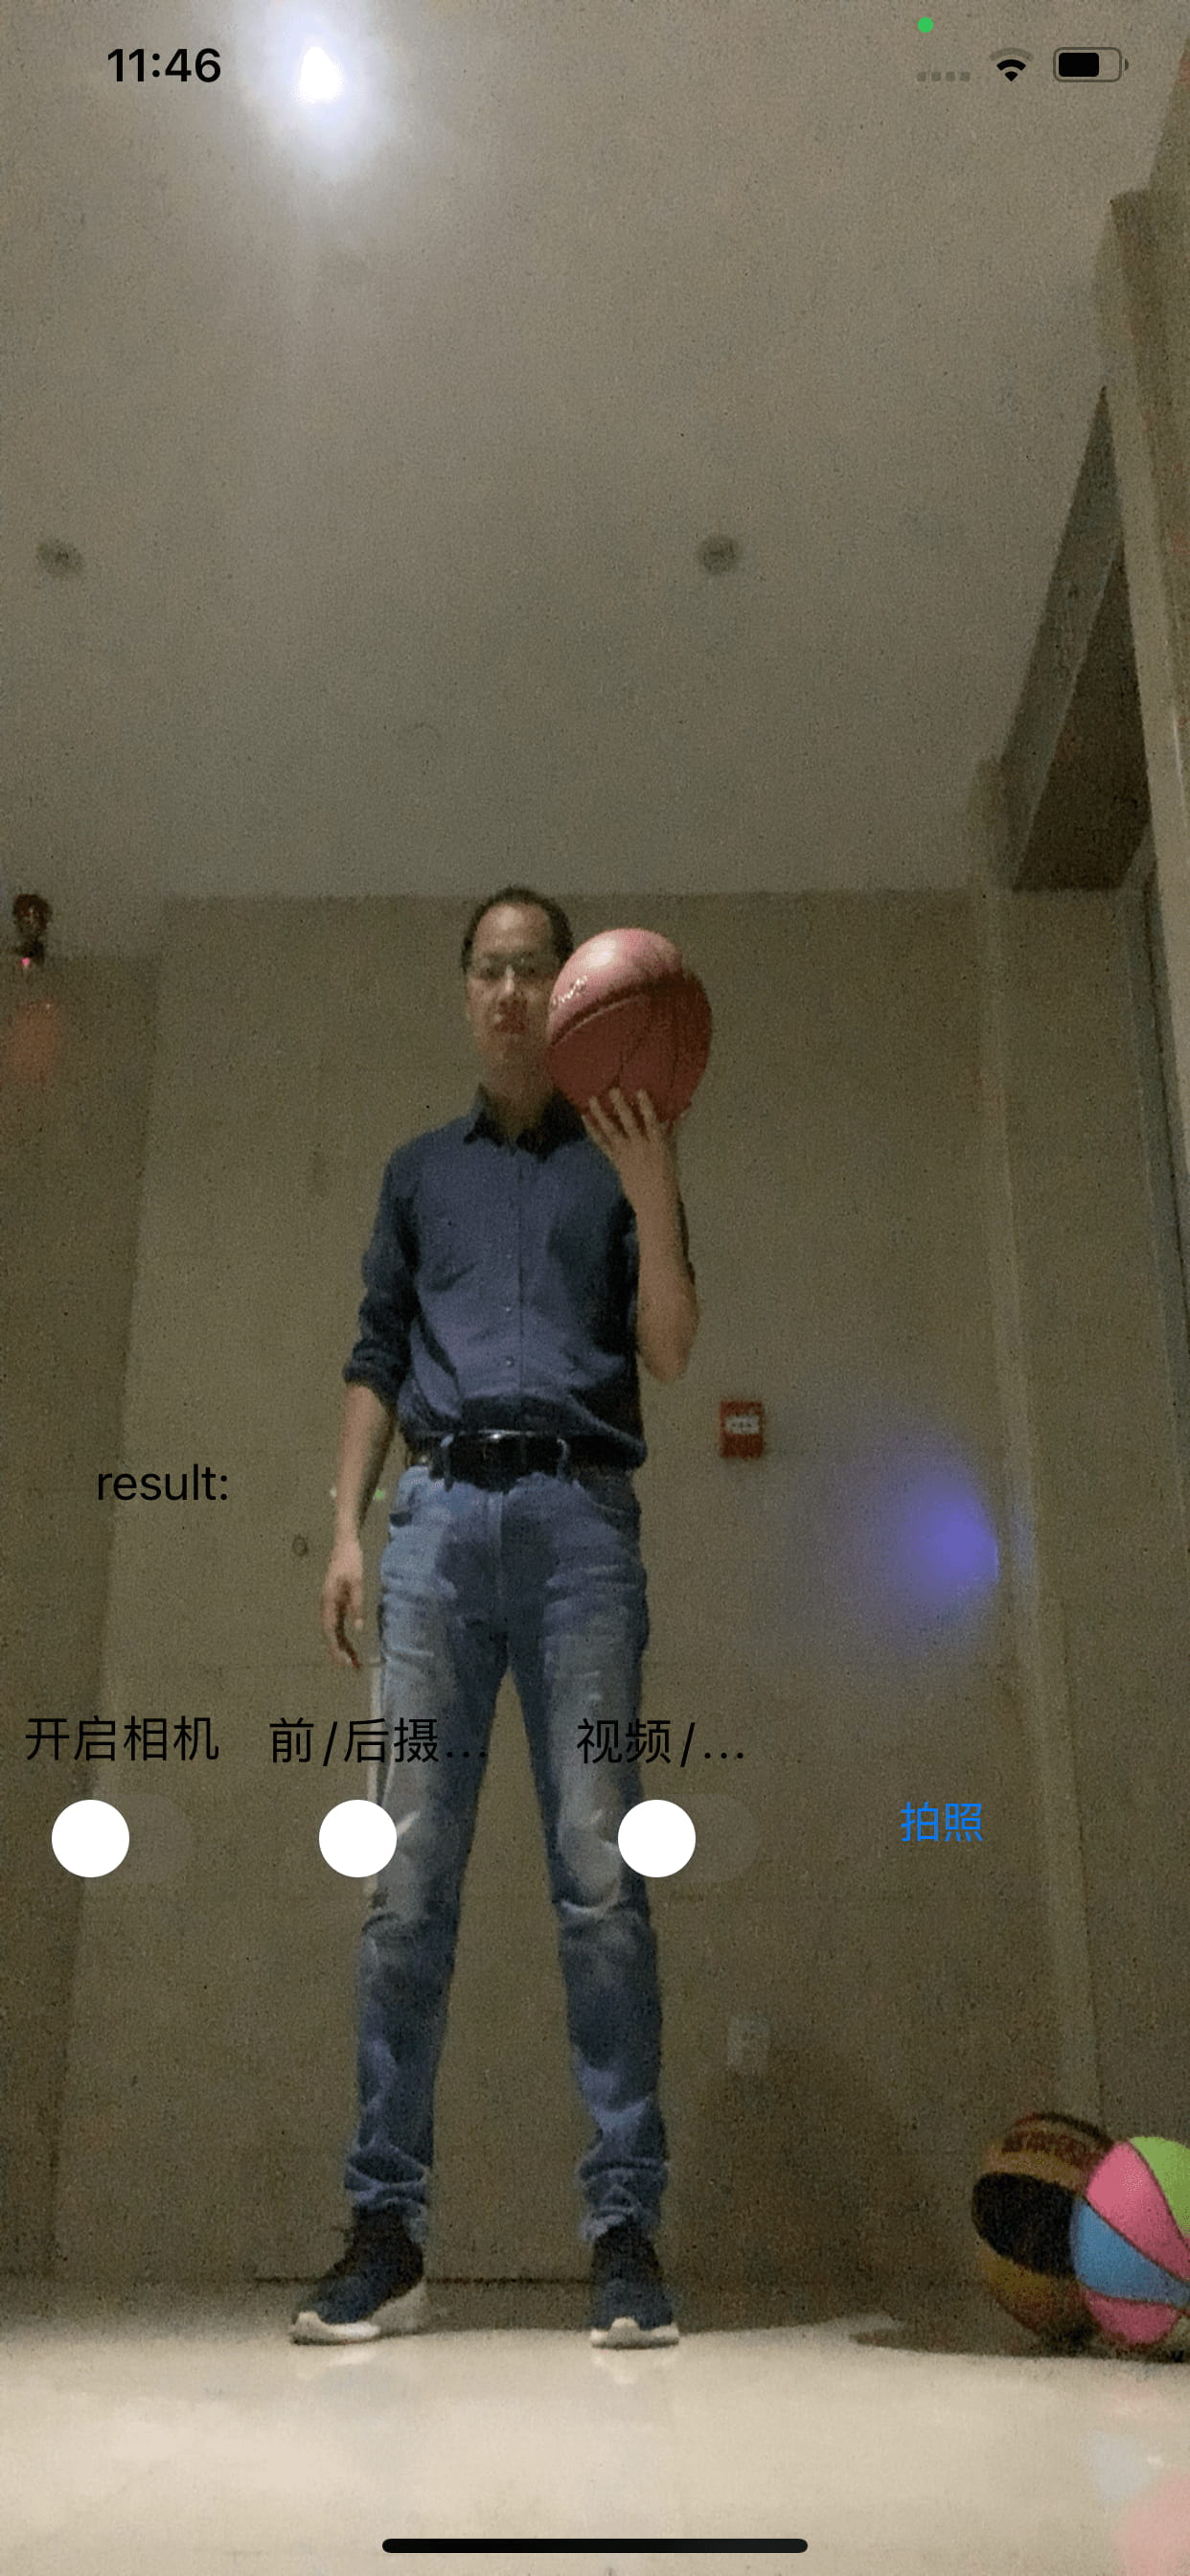ball: (551, 927, 712, 1130), (973, 2111, 1109, 2349), (1073, 2131, 1190, 2366)
